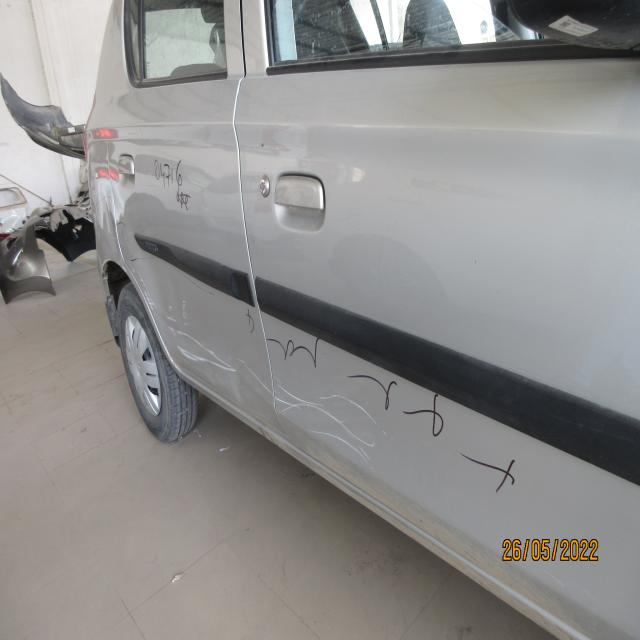damage: (138, 275, 271, 436), (277, 360, 389, 495)
